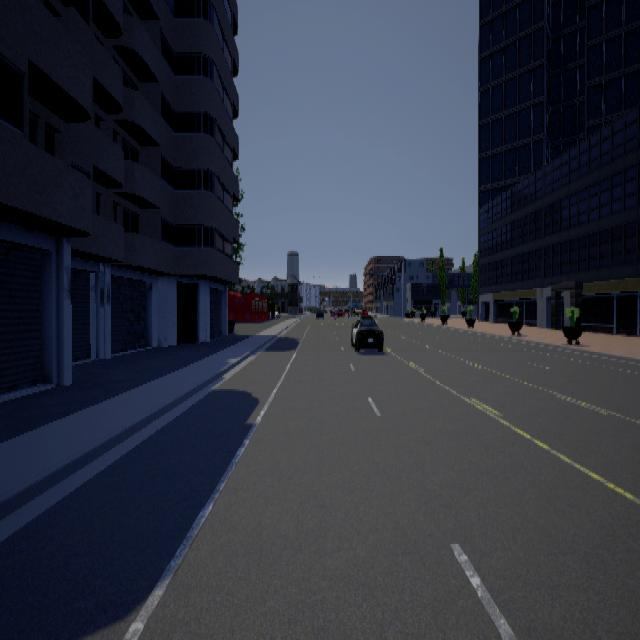vehicle: (352, 310, 385, 350)
